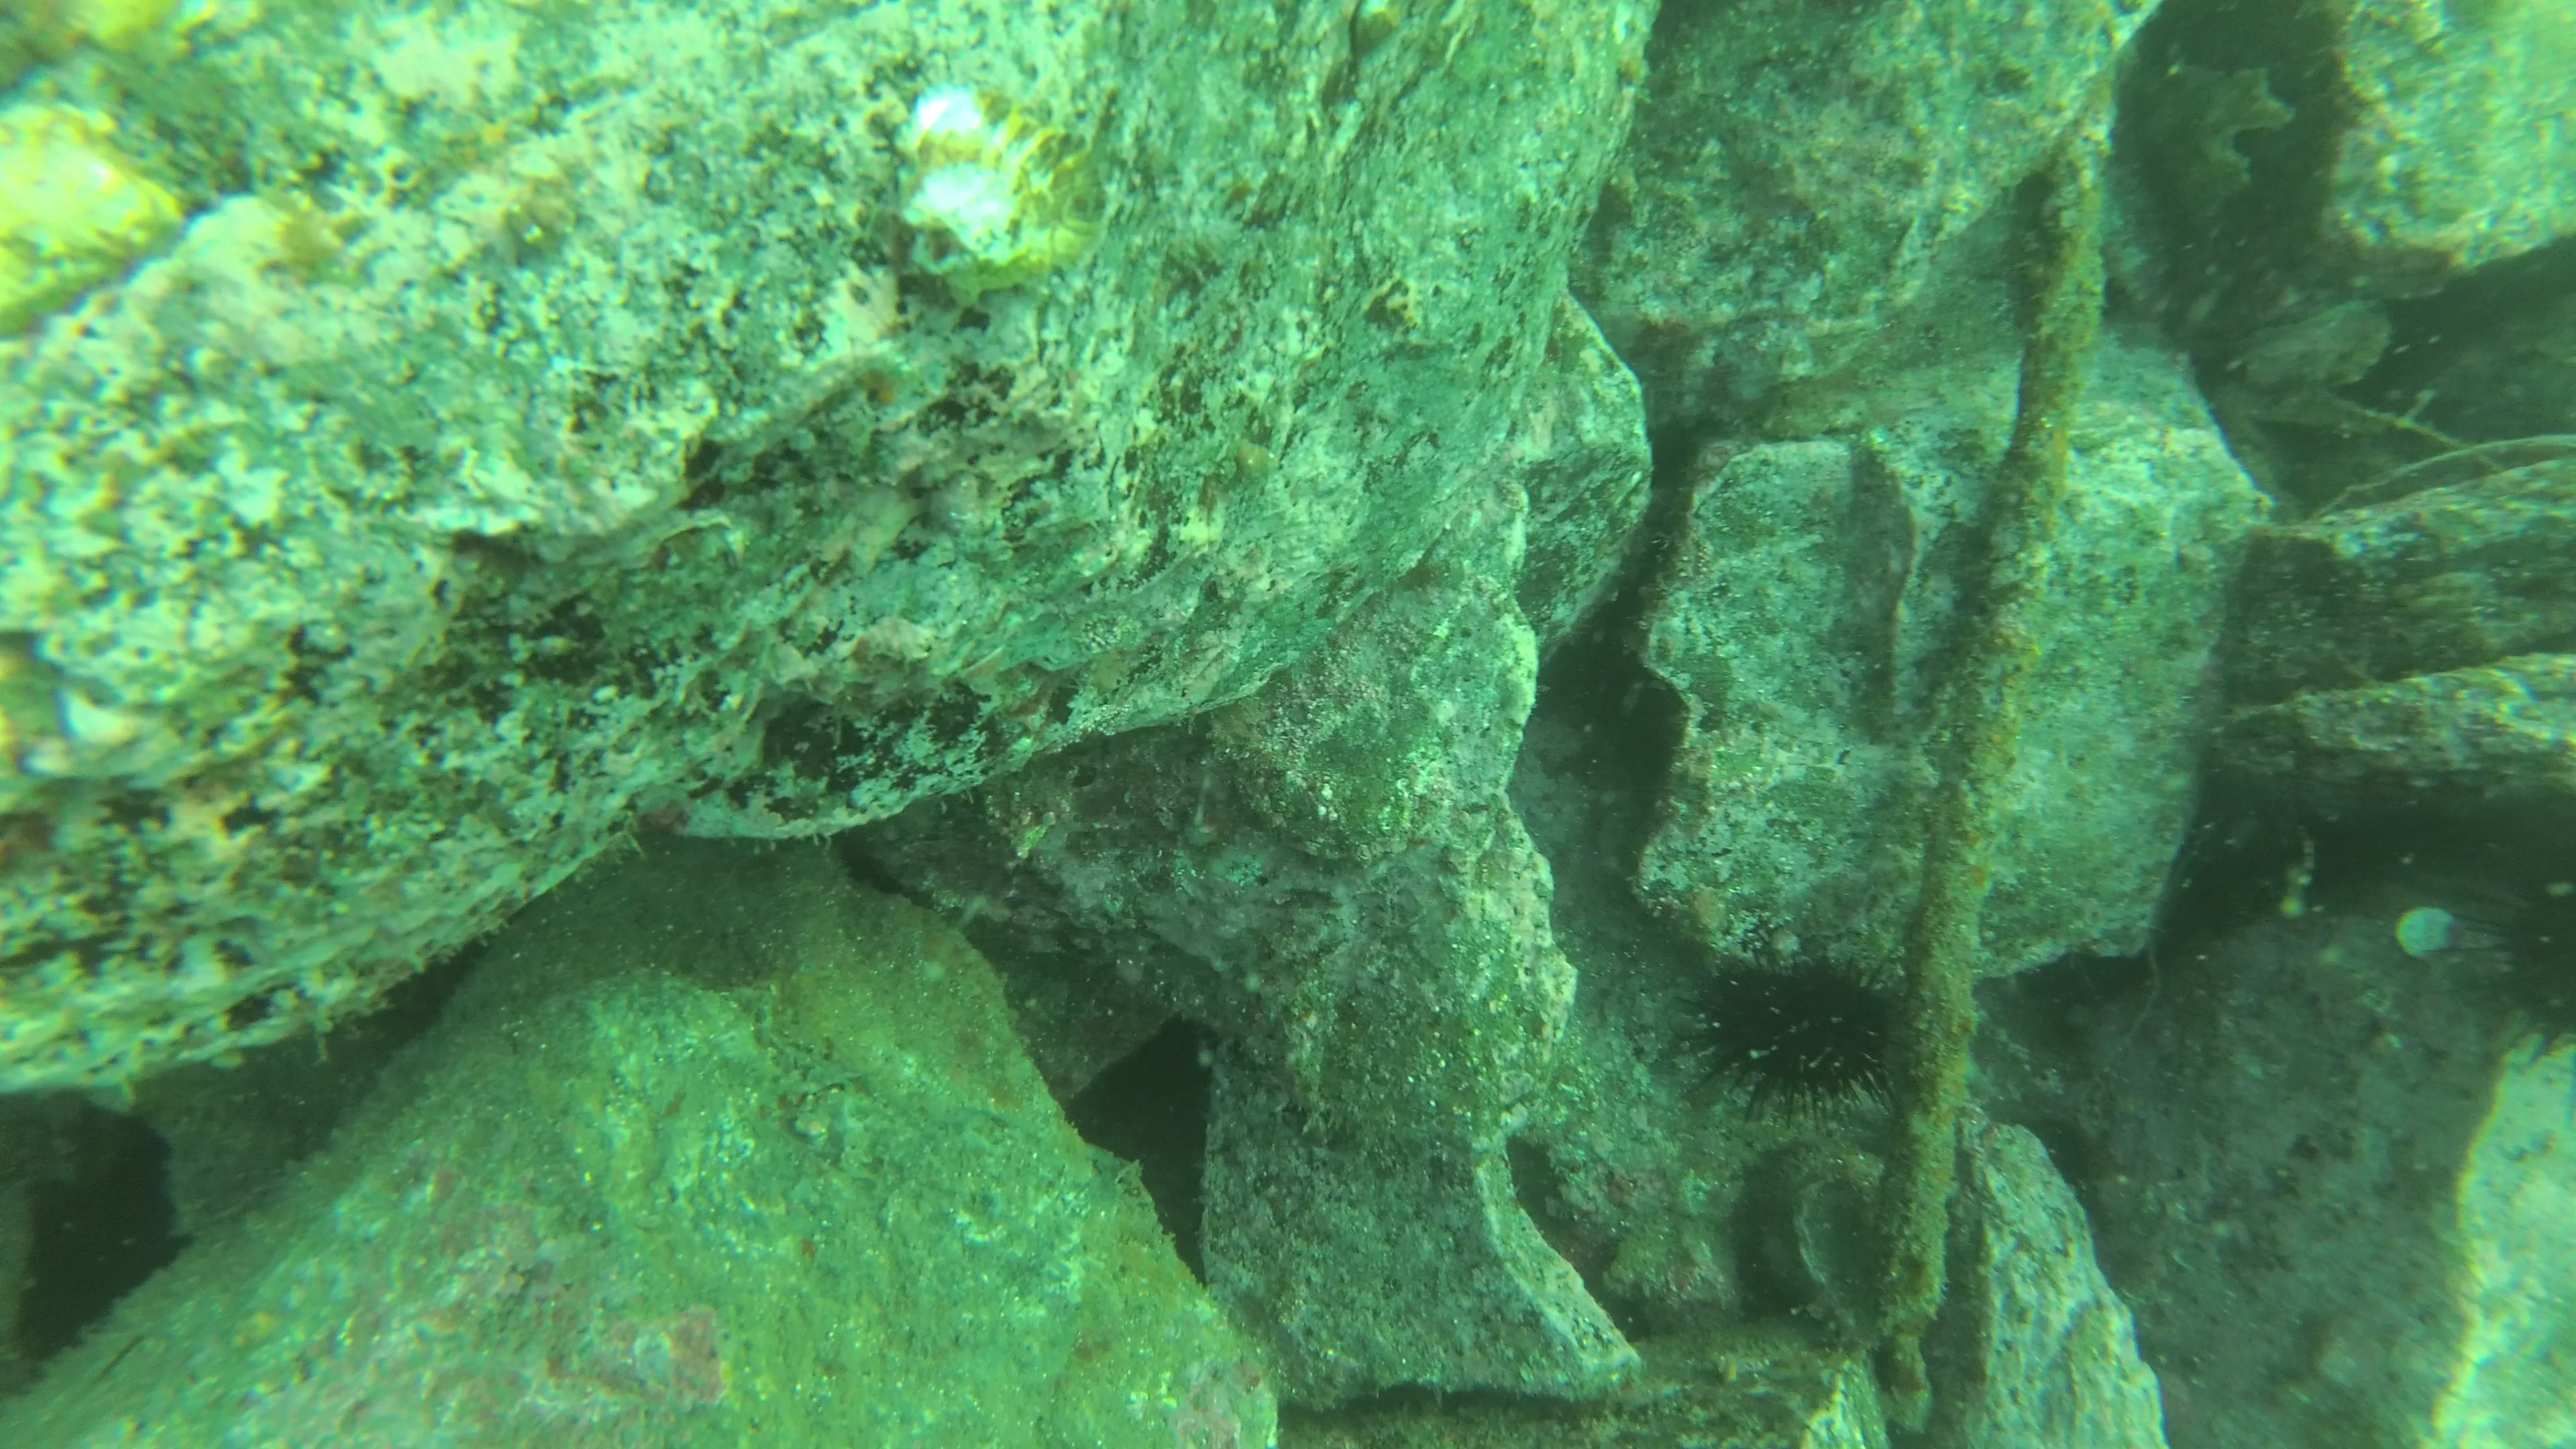echinus: (1690, 957, 1920, 1131), (2479, 869, 2576, 1024)
scallop: (908, 78, 1113, 304)
